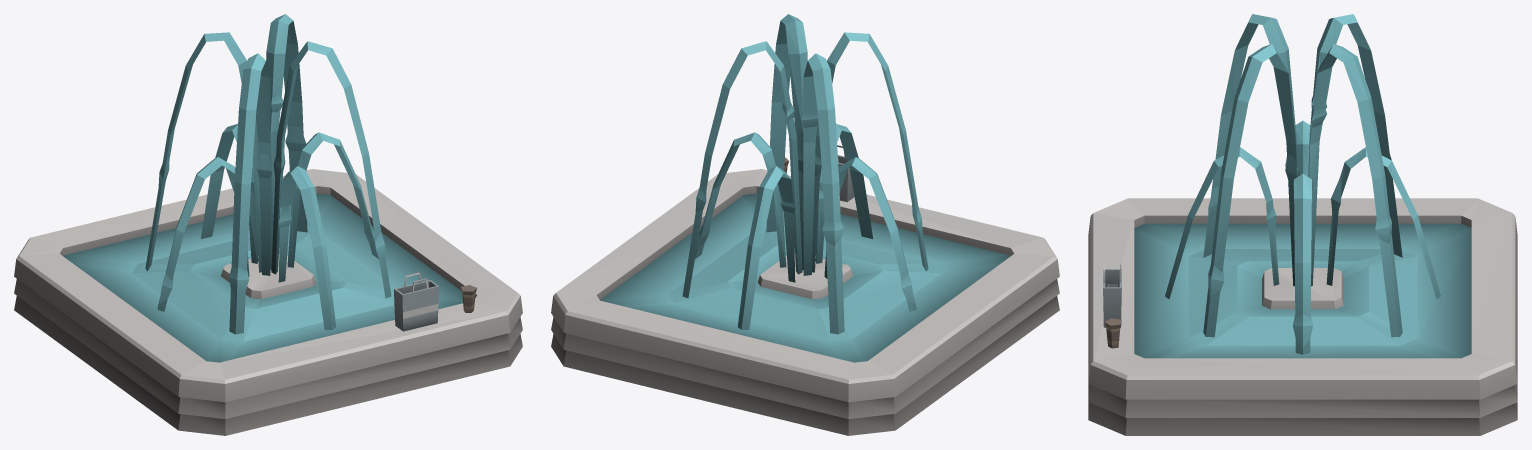
Rendered from fountain.glb.
3 renders of one model, left to right at view 1: azimuth 30°, elevation 25°; view 2: azimuth 150°, elevation 25°; view 3: azimuth 270°, elevation 25°, orthographic. The views are drawn at different scales.
Visible parts, largest first — view 1: fountain.001; view 2: fountain.001; view 3: fountain.001.
Boxes of the visible parts, x1=… form: fountain.001: x1=14, y1=14, x2=522, y2=435; fountain.001: x1=551, y1=14, x2=1059, y2=435; fountain.001: x1=1088, y1=14, x2=1517, y2=435.
Size of the model in its own units: 4.8 by 3.88 by 4.8.
